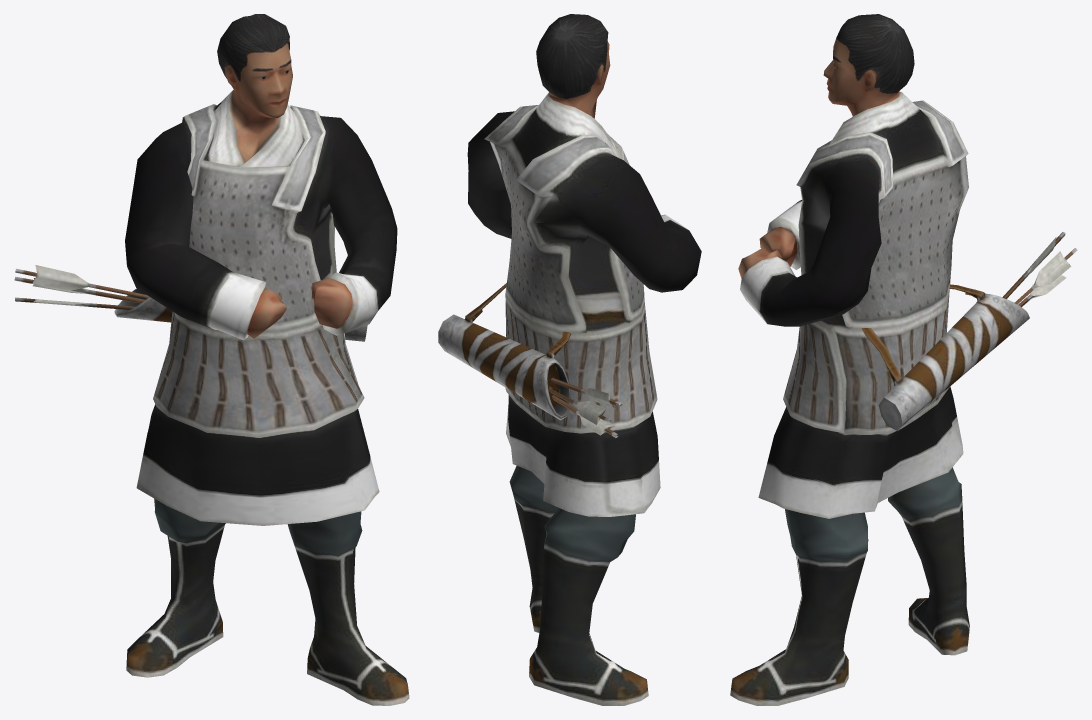
Rendered from body-heavyarchers.glb.
3 views of the same model, side by side, from view 1: azimuth 30°, elevation 25°; view 2: azimuth 150°, elevation 25°; view 3: azimuth 270°, elevation 25° (orthographic). The views are drawn at different scales.
Size of the model in its own units: 0.8932 by 2.06 by 1.01.
1 material, 1 textured.
